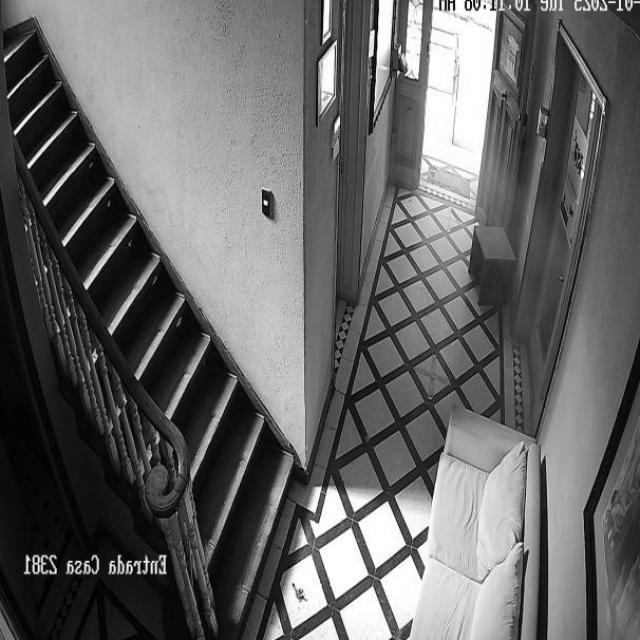fire: (410, 85, 564, 456)
